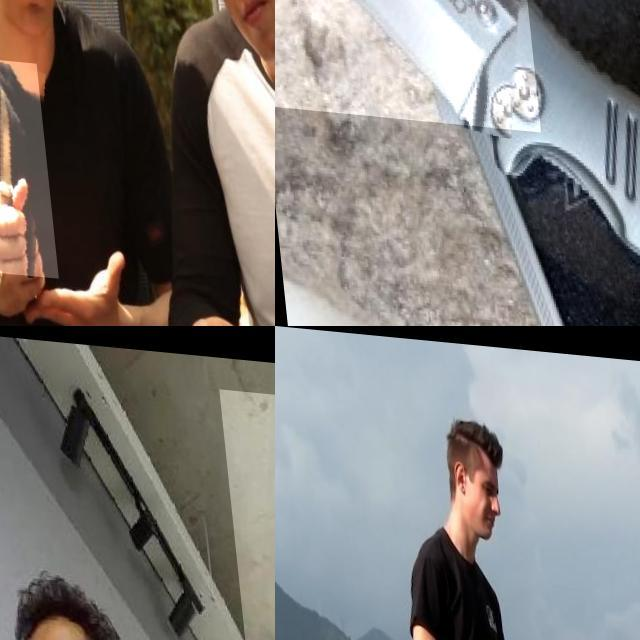-: (275, 0, 534, 150), (0, 53, 50, 275)
